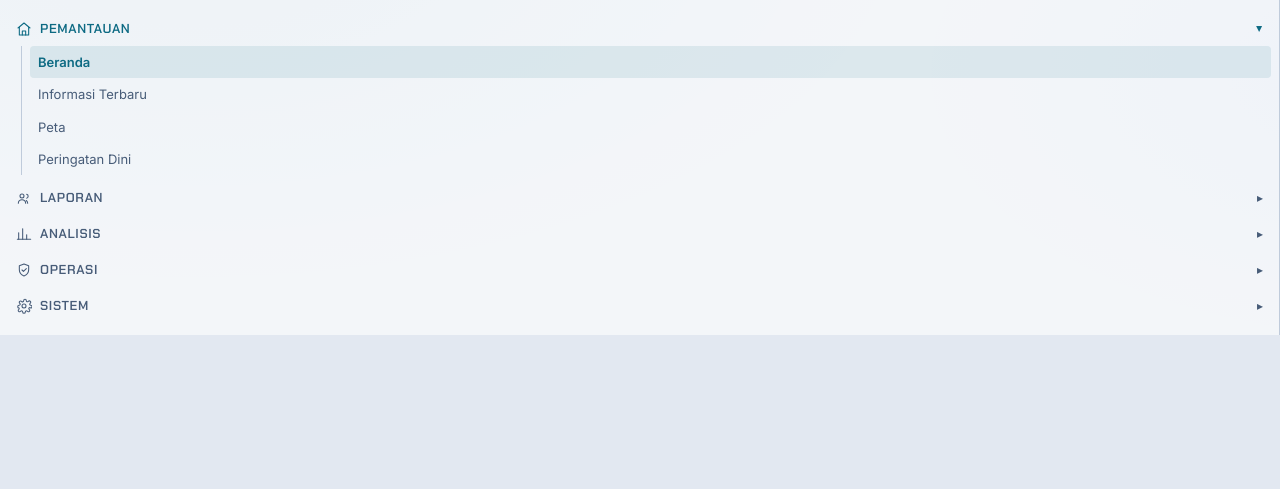
Test case: shell aplikasi › menyembunyikan submenu yang tidak dapat dipakai peran itu sama sekali
Click the button "Laporan ▸" at [72, 198], box [8,181,1271,215]
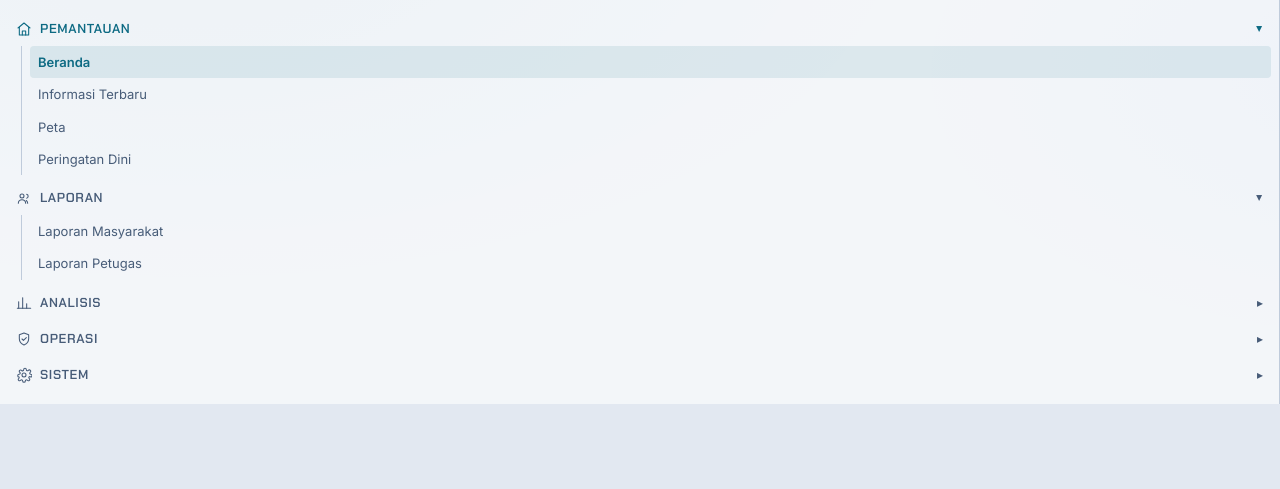
Click the button "Sistem ▸" at [64, 374], box [8,358,1271,392]
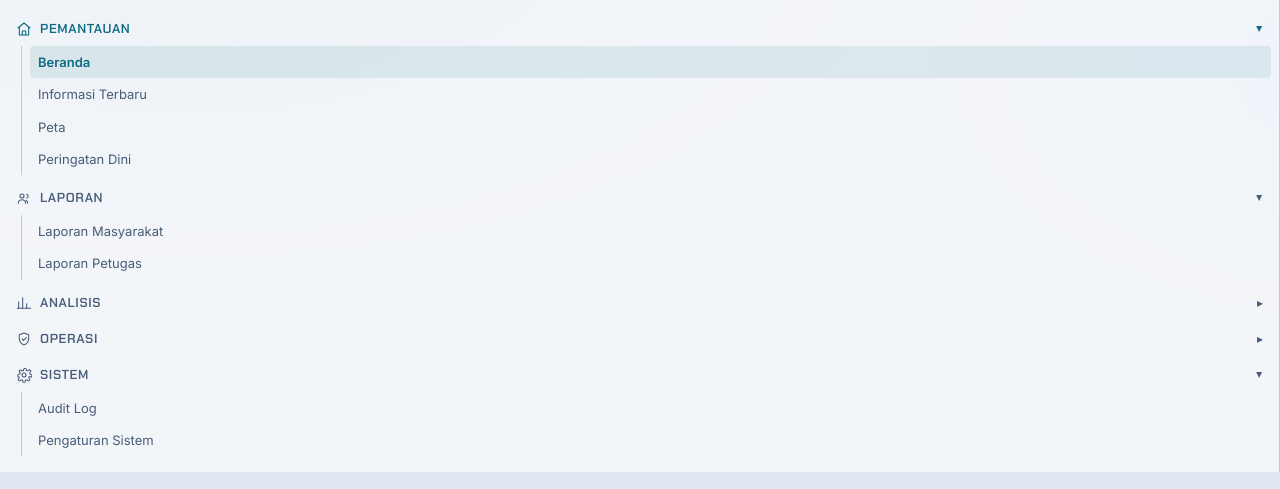
Expected: the link "Audit Log" is shown, [38,400,97,416]
